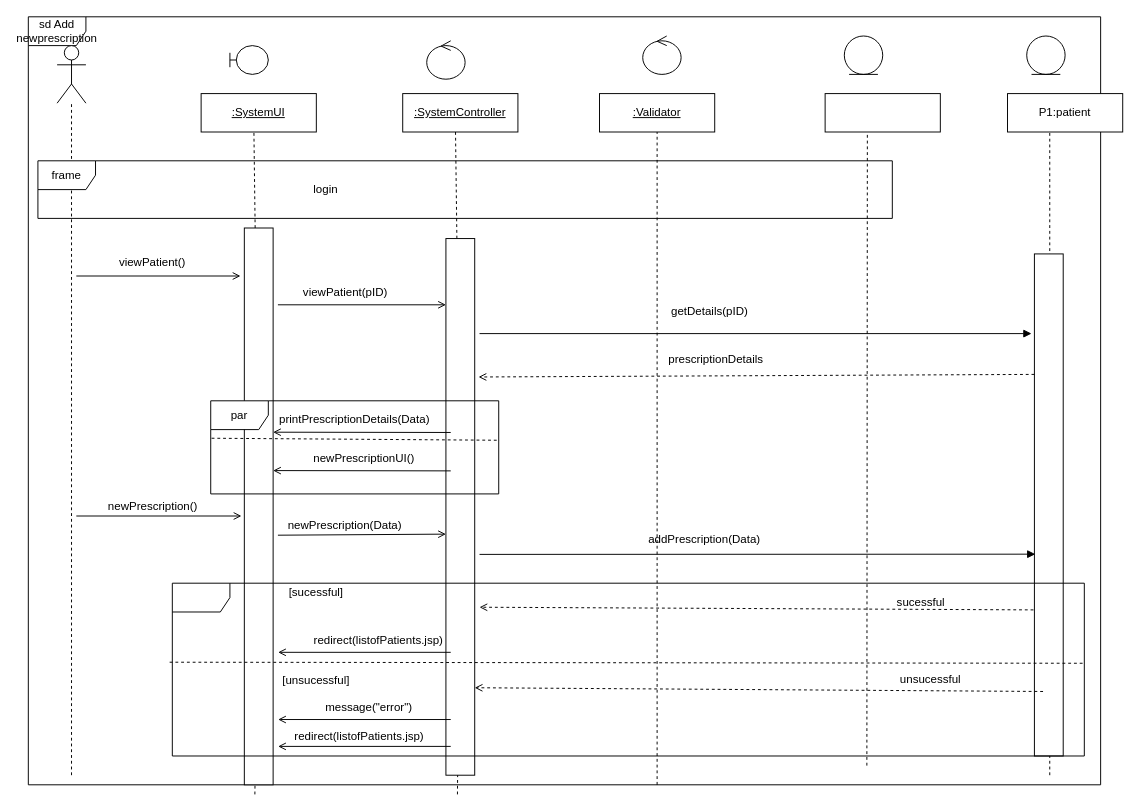
Image size: 1140x812. Some labels were removed from this diagram. The shapes that lost their labels are listed below. From the top down, each one's centre as x and y in pixels, then its label:
At point 71,74: "Doctor".
At point 882,112: "D!:Doctor".
At point 627,669: "alt".
